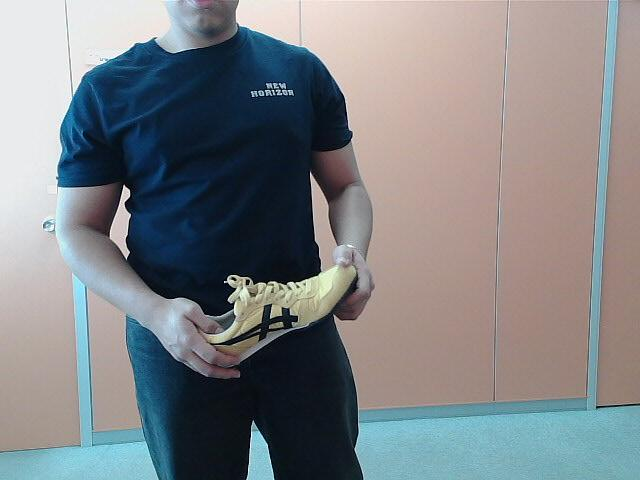Shoes: (196, 262, 361, 363)
